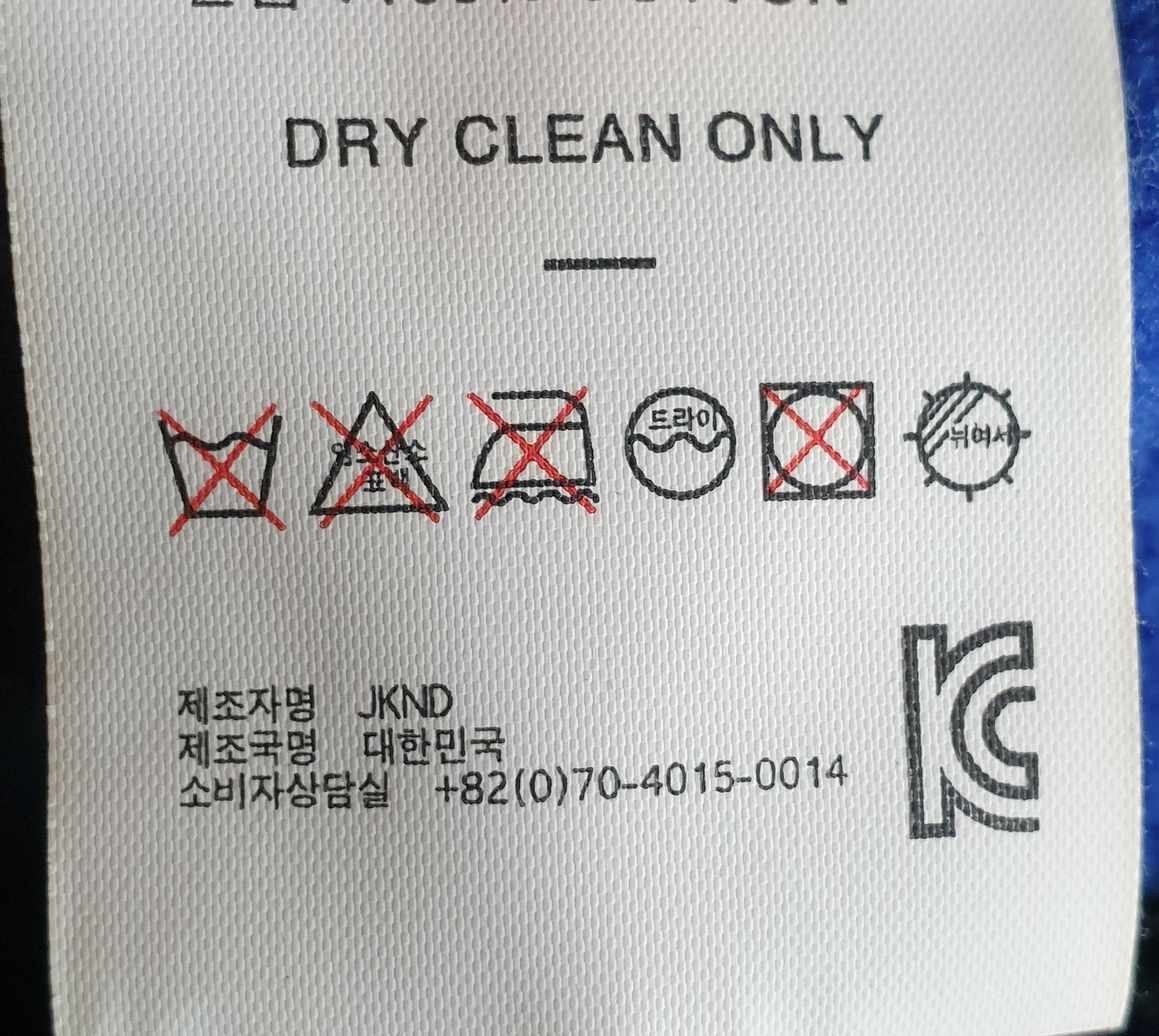KR_dry_clean: (611, 372, 746, 506)
KR_flat_dry_in_shade: (891, 366, 1049, 512)
KR_no_bleach: (296, 376, 459, 536)
KR_no_iron: (453, 372, 611, 520)
KR_no_tumble_dry: (746, 372, 888, 513)
KR_no_wash: (146, 372, 297, 547)
